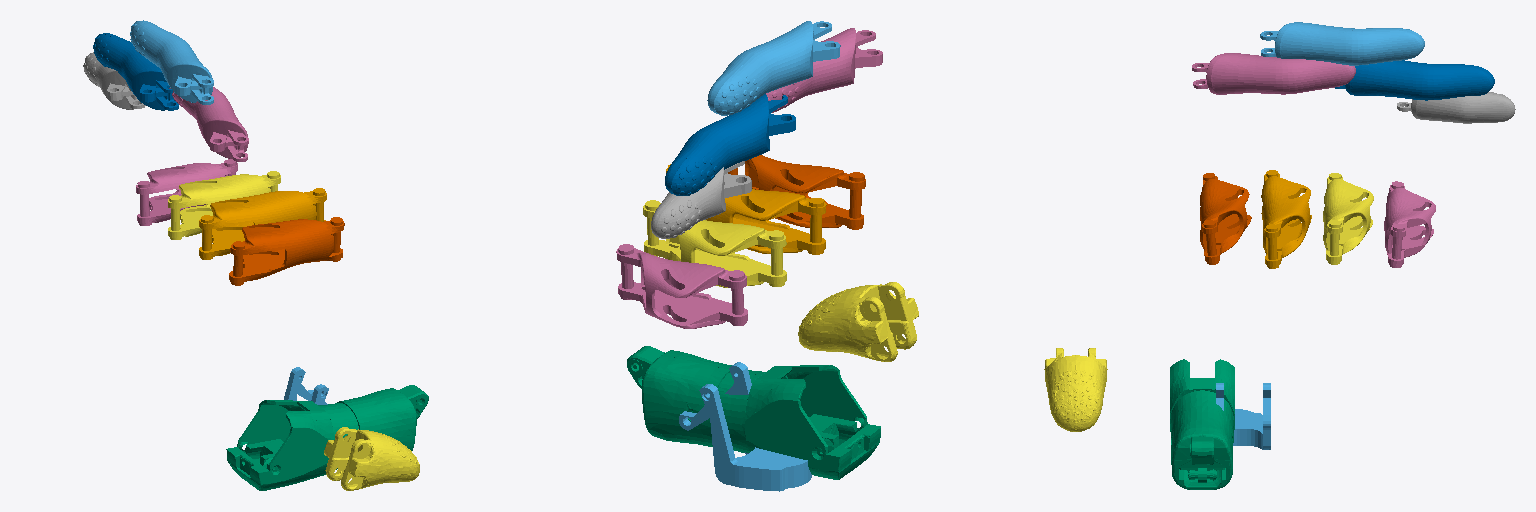
The robot description file, URDF, robot "RuiYan_Hand_Left_Mimic":
<?xml version="1.0" encoding="UTF-8"?>
<!-- Version: 3.0 -->
<robot name="RuiYan_Hand_Left_Mimic">
  <joint name="hand1_joint_link_1_1" type="revolute">
    <origin xyz="0.0135 -0.022 0.0398" rpy="0. 0. 1.5708"/>
    <parent link="hand1_link_base"/>
    <child link="hand1_link_1_1"/>
    <axis xyz="0. 0. 1."/>
    <limit lower="0." upper="2.3559998" effort="340282346638528859811704183484516925440." velocity="5939047335254987724700441203225657344."/>
  </joint>
  <joint name="hand1_joint_link_1_2" type="revolute">
    <origin xyz="-0.0105 0. 0.0107" rpy="1.5707927 0. 3.1415925"/>
    <parent link="hand1_link_1_1"/>
    <child link="hand1_link_1_2"/>
    <axis xyz="0. 0. 1."/>
    <limit lower="0." upper="0.698" effort="340282346638528859811704183484516925440." velocity="5939047335254987724700441203225657344."/>
  </joint>
  <joint name="hand1_joint_link_1_3" type="revolute">
    <origin xyz="0.040457 0.011223 -0. " rpy="0. 0. 0.0000001"/>
    <parent link="hand1_link_1_2"/>
    <child link="hand1_link_1_3"/>
    <axis xyz="0. 0. 1."/>
    <limit lower="0." upper="1.169" effort="340282346638528859811704183484516925440." velocity="5939047335254987724700441203225657344."/>
    <mimic joint="hand1_joint_link_1_2" multiplier="1.6749999523162842" offset="0.0" />
  </joint>
  <joint name="hand1_joint_link_1_4" type="fixed">
    <origin xyz="0.0348893 0.0312583 0.0000002" rpy="3.1415927 0. -3.1415927"/>
    <parent link="hand1_link_1_3"/>
    <child link="hand1_link_1_4"/>
  </joint>
  <joint name="hand1_joint_link_2_1" type="revolute">
    <origin xyz="-0.0035 -0.029833 0.11095 " rpy="-0.0000079 -1.4923 -1.5707921"/>
    <parent link="hand1_link_base"/>
    <child link="hand1_link_2_1"/>
    <axis xyz="0. 0. 1."/>
    <limit lower="0." upper="1.518" effort="340282346638528859811704183484516925440." velocity="5939047335254987724700441203225657344."/>
  </joint>
  <joint name="hand1_joint_link_2_2" type="revolute">
    <origin xyz="0.0419 -0.001 0. " rpy="0. -0. -0."/>
    <parent link="hand1_link_2_1"/>
    <child link="hand1_link_2_2"/>
    <axis xyz="0. 0. 1."/>
    <limit lower="0." upper="1.6229999" effort="340282346638528859811704183484516925440." velocity="5939047335254987724700441203225657344."/>
    <mimic joint="hand1_joint_link_2_1" multiplier="1.0" offset="0.0" />
  </joint>
  <joint name="hand1_joint_link_2_3" type="fixed">
    <origin xyz="0.042506 0.0155105 -0.0003185" rpy="3.1415927 0.0000001 -3.1415927"/>
    <parent link="hand1_link_2_2"/>
    <child link="hand1_link_2_3"/>
  </joint>
  <joint name="hand1_joint_link_3_1" type="revolute">
    <origin xyz="-0.0035 -0.009945 0.112 " rpy="-0.0000086 -1.5446 -1.5707914"/>
    <parent link="hand1_link_base"/>
    <child link="hand1_link_3_1"/>
    <axis xyz="0. 0. 1."/>
    <limit lower="0." upper="1.5709999" effort="340282346638528859811704183484516925440." velocity="5939047335254987724700441203225657344."/>
  </joint>
  <joint name="hand1_joint_link_3_2" type="revolute">
    <origin xyz="0.0519 -0.001 0. " rpy="0. -0. -0."/>
    <parent link="hand1_link_3_1"/>
    <child link="hand1_link_3_2"/>
    <axis xyz="0. 0. 1."/>
    <limit lower="0." upper="1.6409999" effort="340282346638528859811704183484516925440." velocity="5939047335254987724700441203225657344."/>
    <mimic joint="hand1_joint_link_3_1" multiplier="1.0" offset="0.0" />
  </joint>
  <joint name="hand1_joint_link_3_3" type="fixed">
    <origin xyz="0.0412144 0.016 0.0000365" rpy="3.1415927 -0. 3.1415925"/>
    <parent link="hand1_link_3_2"/>
    <child link="hand1_link_3_3"/>
  </joint>
  <joint name="hand1_joint_link_4_1" type="revolute">
    <origin xyz="-0.0035 0.009945 0.11099 " rpy="-3.1415923 -1.5446 1.5707922"/>
    <parent link="hand1_link_base"/>
    <child link="hand1_link_4_1"/>
    <axis xyz="0. 0. 1."/>
    <limit lower="0." upper="1.5709999" effort="340282346638528859811704183484516925440." velocity="5939047335254987724700441203225657344."/>
  </joint>
  <joint name="hand1_joint_link_4_2" type="revolute">
    <origin xyz="0.0419 -0.001 0. " rpy="0. -0. -0."/>
    <parent link="hand1_link_4_1"/>
    <child link="hand1_link_4_2"/>
    <axis xyz="0. 0. 1."/>
    <limit lower="0." upper="1.6579999" effort="340282346638528859811704183484516925440." velocity="5939047335254987724700441203225657344."/>
    <mimic joint="hand1_joint_link_4_1" multiplier="1.0" offset="0.0" />
  </joint>
  <joint name="hand1_joint_link_4_3" type="fixed">
    <origin xyz="0.0414819 0.0158259 0.0002174" rpy="3.1415927 -0. -3.1415925"/>
    <parent link="hand1_link_4_2"/>
    <child link="hand1_link_4_3"/>
  </joint>
  <joint name="hand1_joint_link_5_1" type="revolute">
    <origin xyz="-0.0035 0.029624 0.10795 " rpy="-3.1415923 -1.4923 1.5707922"/>
    <parent link="hand1_link_base"/>
    <child link="hand1_link_5_1"/>
    <axis xyz="0. 0. 1."/>
    <limit lower="0." upper="1.5449999" effort="340282346638528859811704183484516925440." velocity="5939047335254987724700441203225657344."/>
  </joint>
  <joint name="hand1_joint_link_5_2" type="revolute">
    <origin xyz="0.0369 -0.001 0. " rpy="0. -0. -0."/>
    <parent link="hand1_link_5_1"/>
    <child link="hand1_link_5_2"/>
    <axis xyz="0. 0. 1."/>
    <limit lower="0." upper="1.6579999" effort="340282346638528859811704183484516925440." velocity="5939047335254987724700441203225657344."/>
    <mimic joint="hand1_joint_link_5_1" multiplier="1.0" offset="0.0" />
  </joint>
  <joint name="hand1_joint_link_5_3" type="fixed">
    <origin xyz="0.0415203 0.0157445 0.0002218" rpy="3.1415925 0. -3.1415927"/>
    <parent link="hand1_link_5_2"/>
    <child link="hand1_link_5_3"/>
  </joint>
  <joint name="hand1_root_joint" type="fixed">
    <origin xyz="0. 0. 0." rpy="0. 0. 0."/>
    <parent link="RuiYan_Hand_Left"/>
    <child link="hand1_link_base"/>
  </joint>
  <link name="RuiYan_Hand_Left"/>
  <link name="hand1_link_1_1">
    <inertial>
      <origin xyz="0. 0. 0." rpy="0. 0. 0."/>
      <mass value="0.011886"/>
      <inertia ixx="0.001" ixy="0." ixz="0." iyy="0.001" iyz="0." izz="0.001"/>
    </inertial>
    <visual>
      <origin xyz="0. 0. 0." rpy="0. 0. -0.0000001"/>
      <geometry>
        <mesh filename="meshes/hand1_link_1_1_visuals.obj" scale="1. 1. 1."/>
      </geometry>
    </visual>
    <collision>
      <origin xyz="0. 0. 0." rpy="0. 0. -0.0000001"/>
      <geometry>
        <mesh filename="meshes/hand1_link_1_1_collisions.obj" scale="1. 1. 1."/>
      </geometry>
    </collision>
  </link>
  <link name="hand1_link_1_2">
    <inertial>
      <origin xyz="0. 0. 0." rpy="0. 0. 0."/>
      <mass value="0.0125498"/>
      <inertia ixx="0.001" ixy="0." ixz="0." iyy="0.001" iyz="0." izz="0.001"/>
    </inertial>
    <visual>
      <origin xyz="-0. 0. 0." rpy="3.1415927 -0. -3.1415925"/>
      <geometry>
        <mesh filename="meshes/hand1_link_1_2_visuals.obj" scale="1. 1. 1."/>
      </geometry>
    </visual>
    <collision>
      <origin xyz="-0. 0. 0." rpy="3.1415927 -0. -3.1415925"/>
      <geometry>
        <mesh filename="meshes/hand1_link_1_2_collisions.obj" scale="1. 1. 1."/>
      </geometry>
    </collision>
  </link>
  <link name="hand1_link_1_3">
    <inertial>
      <origin xyz="0. 0. 0." rpy="0. 0. 0."/>
      <mass value="0.0076684"/>
      <inertia ixx="0.001" ixy="0." ixz="0." iyy="0.001" iyz="0." izz="0.001"/>
    </inertial>
    <visual>
      <origin xyz="-0. -0. 0." rpy="3.1415927 0. 3.1415927"/>
      <geometry>
        <mesh filename="meshes/hand1_link_1_3_visuals.obj" scale="1. 1. 1."/>
      </geometry>
    </visual>
    <collision>
      <origin xyz="-0. -0. 0." rpy="3.1415927 0. 3.1415927"/>
      <geometry>
        <mesh filename="meshes/hand1_link_1_3_collisions.obj" scale="1. 1. 1."/>
      </geometry>
    </collision>
  </link>
  <link name="hand1_link_1_4">
    <visual>
      <origin xyz="-0.0348893 0.0312583 -0.0000002" rpy="-0. -0. 0."/>
      <geometry>
        <mesh filename="meshes/hand1_link_1_4_visuals.obj" scale="1. 1. 1."/>
      </geometry>
    </visual>
    <collision>
      <origin xyz="0.0729571 -0.0621045 -0.0134997" rpy="2.3561945 -1.5707911 2.3561945"/>
      <geometry>
        <mesh filename="meshes/hand1_link_1_4_collisions.obj" scale="1. 1. 1."/>
      </geometry>
    </collision>
  </link>
  <link name="hand1_link_2_1">
    <inertial>
      <origin xyz="0. 0. 0." rpy="0. 0. 0."/>
      <mass value="0.0100639"/>
      <inertia ixx="0.001" ixy="0." ixz="0." iyy="0.001" iyz="0." izz="0.001"/>
    </inertial>
    <visual>
      <origin xyz="0. 0. 0." rpy="3.1415927 0. 3.1415927"/>
      <geometry>
        <mesh filename="meshes/hand1_link_2_1_visuals.obj" scale="1. 1. 1."/>
      </geometry>
    </visual>
    <collision>
      <origin xyz="0. 0. 0." rpy="3.1415927 0. 3.1415927"/>
      <geometry>
        <mesh filename="meshes/hand1_link_2_1_collisions.obj" scale="1. 1. 1."/>
      </geometry>
    </collision>
  </link>
  <link name="hand1_link_2_2">
    <inertial>
      <origin xyz="0. 0. 0." rpy="0. 0. 0."/>
      <mass value="0.0035859"/>
      <inertia ixx="0.001" ixy="0." ixz="0." iyy="0.001" iyz="0." izz="0.001"/>
    </inertial>
    <visual>
      <origin xyz="0. -0. 0." rpy="-3.1415927 0. 3.1415927"/>
      <geometry>
        <mesh filename="meshes/hand1_link_2_2_visuals.obj" scale="1. 1. 1."/>
      </geometry>
    </visual>
    <collision>
      <origin xyz="0. -0. 0." rpy="-3.1415927 0. 3.1415927"/>
      <geometry>
        <mesh filename="meshes/hand1_link_2_2_collisions.obj" scale="1. 1. 1."/>
      </geometry>
    </collision>
  </link>
  <link name="hand1_link_2_3">
    <visual>
      <origin xyz="-0.042506 0.0155105 0.0003185" rpy="-1.5708838 1.4923 -0.0000907"/>
      <geometry>
        <mesh filename="meshes/hand1_link_2_3_visuals.obj" scale="1. 1. 1."/>
      </geometry>
    </visual>
    <collision>
      <origin xyz="-0.042506 0.0155105 0.0003185" rpy="-1.5708838 1.4923 -0.0000907"/>
      <geometry>
        <mesh filename="meshes/hand1_link_2_3_collisions.obj" scale="1. 1. 1."/>
      </geometry>
    </collision>
  </link>
  <link name="hand1_link_3_1">
    <inertial>
      <origin xyz="0. 0. 0." rpy="0. 0. 0."/>
      <mass value="0.0082987"/>
      <inertia ixx="0.001" ixy="0." ixz="0." iyy="0.001" iyz="0." izz="0.001"/>
    </inertial>
    <visual>
      <origin xyz="0. 0. 0." rpy="3.1415927 0. 3.1415927"/>
      <geometry>
        <mesh filename="meshes/hand1_link_3_1_visuals.obj" scale="1. 1. 1."/>
      </geometry>
    </visual>
    <collision>
      <origin xyz="0. 0. 0." rpy="3.1415927 0. 3.1415927"/>
      <geometry>
        <mesh filename="meshes/hand1_link_3_1_collisions.obj" scale="1. 1. 1."/>
      </geometry>
    </collision>
  </link>
  <link name="hand1_link_3_2">
    <inertial>
      <origin xyz="0. 0. 0." rpy="0. 0. 0."/>
      <mass value="0.0035859"/>
      <inertia ixx="0.001" ixy="0." ixz="0." iyy="0.001" iyz="0." izz="0.001"/>
    </inertial>
    <visual>
      <origin xyz="-0. -0. -0." rpy="-3.1415927 0. -3.1415927"/>
      <geometry>
        <mesh filename="meshes/hand1_link_3_2_visuals.obj" scale="1. 1. 1."/>
      </geometry>
    </visual>
    <collision>
      <origin xyz="-0. -0. -0." rpy="-3.1415927 0. -3.1415927"/>
      <geometry>
        <mesh filename="meshes/hand1_link_3_2_collisions.obj" scale="1. 1. 1."/>
      </geometry>
    </collision>
  </link>
  <link name="hand1_link_3_3">
    <visual>
      <origin xyz="-0. -0. -0." rpy="-1.57107 1.5446 -0.0002771"/>
      <geometry>
        <mesh filename="meshes/hand1_link_3_3_visuals.obj" scale="1. 1. 1."/>
      </geometry>
    </visual>
    <collision>
      <origin xyz="-0.0412144 0.016 -0.0000365" rpy="-1.57107 1.5446 -0.0002771"/>
      <geometry>
        <mesh filename="meshes/hand1_link_3_3_collisions.obj" scale="1. 1. 1."/>
      </geometry>
    </collision>
  </link>
  <link name="hand1_link_4_1">
    <inertial>
      <origin xyz="0. 0. 0." rpy="0. 0. 0."/>
      <mass value="0.0100639"/>
      <inertia ixx="0.001" ixy="0." ixz="0." iyy="0.001" iyz="0." izz="0.001"/>
    </inertial>
    <visual>
      <origin xyz="0. 0. 0." rpy="3.1415927 0. 3.1415927"/>
      <geometry>
        <mesh filename="meshes/hand1_link_4_1_visuals.obj" scale="1. 1. 1."/>
      </geometry>
    </visual>
    <collision>
      <origin xyz="0. 0. 0." rpy="3.1415927 0. 3.1415927"/>
      <geometry>
        <mesh filename="meshes/hand1_link_4_1_collisions.obj" scale="1. 1. 1."/>
      </geometry>
    </collision>
  </link>
  <link name="hand1_link_4_2">
    <inertial>
      <origin xyz="0. 0. 0." rpy="0. 0. 0."/>
      <mass value="0.003586"/>
      <inertia ixx="0.001" ixy="0." ixz="0." iyy="0.001" iyz="0." izz="0.001"/>
    </inertial>
    <visual>
      <origin xyz="0. -0. -0." rpy="3.1415927 0. 3.1415927"/>
      <geometry>
        <mesh filename="meshes/hand1_link_4_2_visuals.obj" scale="1. 1. 1."/>
      </geometry>
    </visual>
    <collision>
      <origin xyz="0. -0. -0." rpy="3.1415927 0. 3.1415927"/>
      <geometry>
        <mesh filename="meshes/hand1_link_4_2_collisions.obj" scale="1. 1. 1."/>
      </geometry>
    </collision>
  </link>
  <link name="hand1_link_4_3">
    <visual>
      <origin xyz="-0.0414819 0.0158259 -0.0002174" rpy="1.571077 1.5446001 -3.1413155"/>
      <geometry>
        <mesh filename="meshes/hand1_link_4_3_visuals.obj" scale="1. 1. 1."/>
      </geometry>
    </visual>
    <collision>
      <origin xyz="-0.0414819 0.0158259 -0.0002174" rpy="1.571077 1.5446001 -3.1413155"/>
      <geometry>
        <mesh filename="meshes/hand1_link_4_3_collisions.obj" scale="1. 1. 1."/>
      </geometry>
    </collision>
  </link>
  <link name="hand1_link_5_1">
    <inertial>
      <origin xyz="0. 0. 0." rpy="0. 0. 0."/>
      <mass value="0.0087057"/>
      <inertia ixx="0.001" ixy="0." ixz="0." iyy="0.001" iyz="0." izz="0.001"/>
    </inertial>
    <visual>
      <origin xyz="0. 0. 0." rpy="3.1415925 0. 3.1415925"/>
      <geometry>
        <mesh filename="meshes/hand1_link_5_1_visuals.obj" scale="1. 1. 1."/>
      </geometry>
    </visual>
    <collision>
      <origin xyz="0. 0. 0." rpy="3.1415925 0. 3.1415925"/>
      <geometry>
        <mesh filename="meshes/hand1_link_5_1_collisions.obj" scale="1. 1. 1."/>
      </geometry>
    </collision>
  </link>
  <link name="hand1_link_5_2">
    <inertial>
      <origin xyz="0. 0. 0." rpy="0. 0. 0."/>
      <mass value="0.0035861"/>
      <inertia ixx="0.001" ixy="0." ixz="0." iyy="0.001" iyz="0." izz="0.001"/>
    </inertial>
    <visual>
      <origin xyz="0. -0. 0." rpy="3.1415927 0. 3.1415927"/>
      <geometry>
        <mesh filename="meshes/hand1_link_5_2_visuals.obj" scale="1. 1. 1."/>
      </geometry>
    </visual>
    <collision>
      <origin xyz="0. -0. 0." rpy="3.1415927 0. 3.1415927"/>
      <geometry>
        <mesh filename="meshes/hand1_link_5_2_collisions.obj" scale="1. 1. 1."/>
      </geometry>
    </collision>
  </link>
  <link name="hand1_link_5_3">
    <visual>
      <origin xyz="-0.0415203 0.0157445 -0.0002218" rpy="1.5708913 1.4923002 -3.1415012"/>
      <geometry>
        <mesh filename="meshes/hand1_link_5_3_visuals.obj" scale="1. 1. 1."/>
      </geometry>
    </visual>
    <collision>
      <origin xyz="-0.0415203 0.0157445 -0.0002218" rpy="1.5708913 1.4923002 -3.1415012"/>
      <geometry>
        <mesh filename="meshes/hand1_link_5_3_collisions.obj" scale="1. 1. 1."/>
      </geometry>
    </collision>
  </link>
  <link name="hand1_link_base">
    <inertial>
      <origin xyz="0. 0. 0." rpy="0. 0. 0."/>
      <mass value="0.1446255"/>
      <inertia ixx="0.001" ixy="0." ixz="0." iyy="0.001" iyz="0." izz="0.001"/>
    </inertial>
    <visual>
      <origin xyz="0. 0. 0." rpy="0. 0. 0."/>
      <geometry>
        <mesh filename="meshes/hand1_link_base_visuals.obj" scale="1. 1. 1."/>
      </geometry>
    </visual>
    <collision>
      <origin xyz="0. 0. 0." rpy="0. 0. 0."/>
      <geometry>
        <mesh filename="meshes/hand1_link_base_collisions.obj" scale="1. 1. 1."/>
      </geometry>
    </collision>
  </link>
</robot>

--- Render facts (derived) ---
The picture shows the robot from 3 angles, left to right: view 1: azimuth 30°, elevation 25°; view 2: azimuth 150°, elevation 25°; view 3: azimuth 270°, elevation 25°; orthographic projection.
Robot: RuiYan_Hand_Left_Mimic — 18 links, 17 joints (11 revolute, 6 fixed); root link RuiYan_Hand_Left; default pose: every joint at zero.
Links seen in each view (by area): view 1: hand1_link_1_2, hand1_link_2_1, hand1_link_3_1, hand1_link_1_3, hand1_link_3_2, hand1_link_4_1, hand1_link_4_2, hand1_link_5_1, hand1_link_2_2, hand1_link_5_2, hand1_link_1_1; view 2: hand1_link_1_2, hand1_link_5_1, hand1_link_1_3, hand1_link_3_2, hand1_link_4_2, hand1_link_4_1, hand1_link_1_1, hand1_link_2_1, hand1_link_3_1, hand1_link_5_2, hand1_link_2_2; view 3: hand1_link_1_2, hand1_link_3_2, hand1_link_2_2, hand1_link_4_2, hand1_link_1_3, hand1_link_3_1, hand1_link_2_1, hand1_link_4_1, hand1_link_5_1, hand1_link_5_2, hand1_link_1_1.
Link boxes in pixels (x1,y1,x2,y2): hand1_link_1_2: [226, 385, 428, 490]; hand1_link_2_1: [229, 217, 344, 285]; hand1_link_3_1: [199, 188, 326, 259]; hand1_link_1_3: [324, 427, 419, 490]; hand1_link_3_2: [130, 20, 213, 104]; hand1_link_4_1: [168, 171, 280, 239]; hand1_link_4_2: [93, 33, 178, 110]; hand1_link_5_1: [136, 159, 237, 225]; hand1_link_2_2: [169, 87, 248, 161]; hand1_link_5_2: [83, 52, 145, 109]; hand1_link_1_1: [284, 367, 328, 404]; hand1_link_1_2: [627, 346, 880, 479]; hand1_link_5_1: [616, 244, 747, 328]; hand1_link_1_3: [798, 282, 918, 361]; hand1_link_3_2: [707, 21, 840, 115]; hand1_link_4_2: [665, 94, 795, 195]; hand1_link_4_1: [643, 200, 786, 287]; hand1_link_1_1: [679, 362, 811, 491]; hand1_link_2_1: [728, 155, 865, 229]; hand1_link_3_1: [666, 164, 826, 254]; hand1_link_5_2: [651, 161, 751, 238]; hand1_link_2_2: [766, 28, 882, 112]; hand1_link_1_2: [1170, 359, 1234, 489]; hand1_link_3_2: [1260, 22, 1424, 65]; hand1_link_2_2: [1192, 53, 1355, 94]; hand1_link_4_2: [1335, 60, 1494, 100]; hand1_link_1_3: [1044, 348, 1107, 431]; hand1_link_3_1: [1261, 170, 1311, 268]; hand1_link_2_1: [1200, 173, 1251, 264]; hand1_link_4_1: [1323, 173, 1373, 264]; hand1_link_5_1: [1384, 181, 1435, 267]; hand1_link_5_2: [1397, 92, 1515, 123]; hand1_link_1_1: [1216, 383, 1270, 449].
Bounding box of the posed robot: 0.0753 × 0.1509 × 0.1388 m (x, y, z).
11 mesh visuals loaded from 17 distinct referenced files (11 OBJ); not drawn: 6 (reference not matched to a file when rendering).
